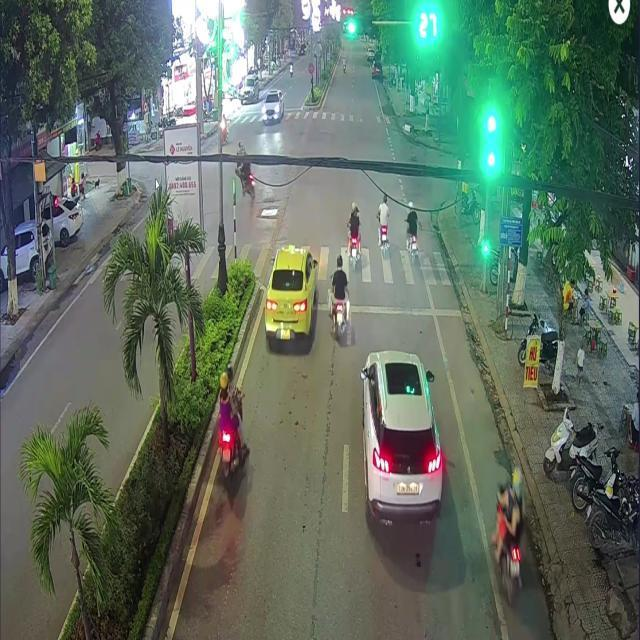car: (360, 380, 453, 578), (258, 236, 322, 356)
green_light: (484, 110, 498, 172), (345, 13, 372, 38)
motobike: (321, 310, 347, 412)
stop_line: (262, 299, 460, 316)
